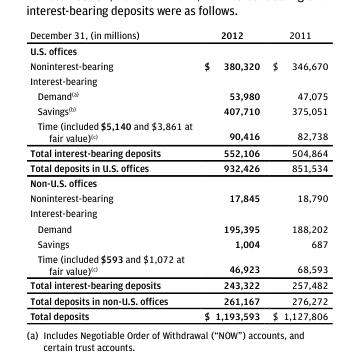table: (29, 28, 327, 321)
table column: (29, 28, 197, 321), (197, 28, 265, 321), (265, 28, 327, 321)
table column header: (29, 28, 327, 42)
table projected row header: (29, 174, 327, 190), (29, 42, 327, 57), (29, 72, 327, 87), (29, 205, 327, 220)
table row: (29, 118, 327, 145), (29, 250, 327, 277), (29, 102, 327, 118), (29, 174, 327, 190), (29, 42, 327, 57), (29, 57, 327, 72), (29, 72, 327, 87), (29, 87, 327, 102), (29, 159, 327, 174), (29, 190, 327, 205), (29, 205, 327, 220), (29, 220, 327, 235), (29, 235, 327, 250), (29, 277, 327, 292), (29, 292, 327, 307), (29, 28, 327, 42), (29, 145, 327, 159), (29, 307, 327, 321)
